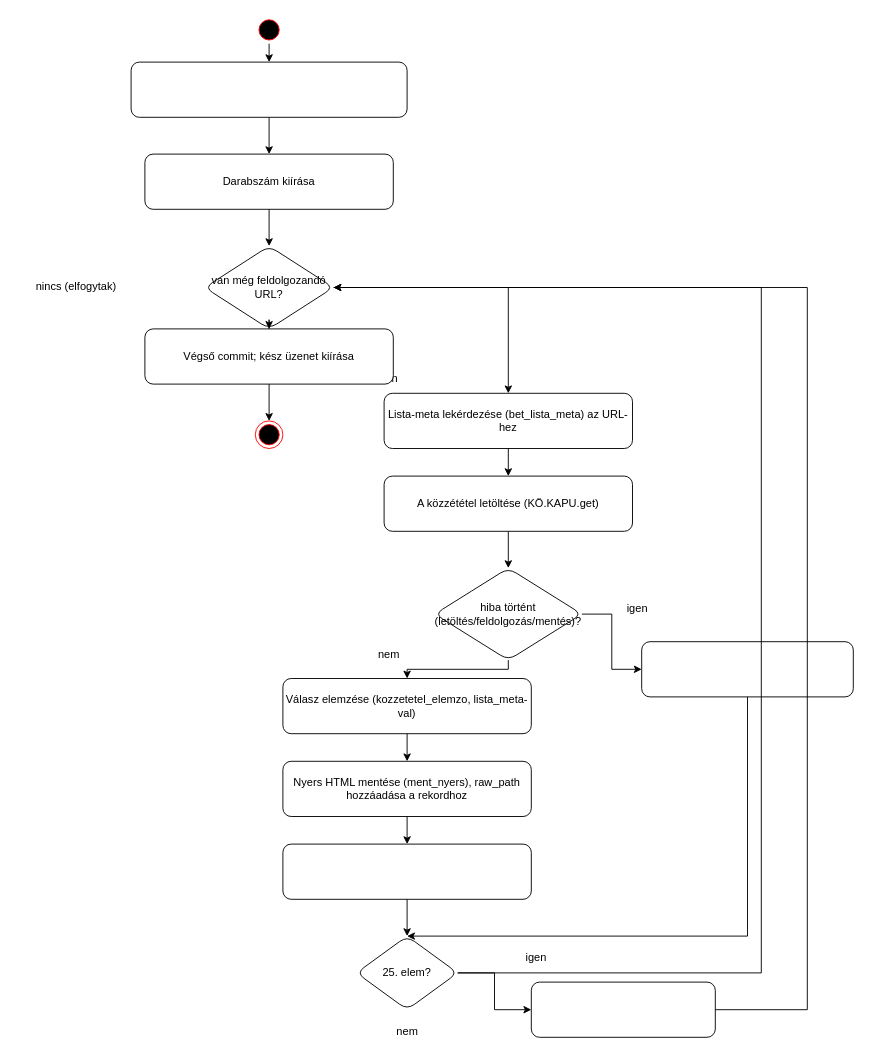
Some shapes in this 869 by 1063 pixel diagram are drawn without their labels. The centre of each missing label's shape, as x and y in pixels:
commit; haladás kiírása (i/összes): (x=622, y=1009)
Dokumentum mentése az adatbázisba (ment_dokumentum); naplo(url, statusz) mentése: (x=406, y=871)
naplo(url, -1, hiba szövege) mentése: (x=747, y=669)
Várakozó URL-ek lekérdezése (naplo: statusz IS NULL AND hiba='bet-varakozik'): (x=268, y=89)
